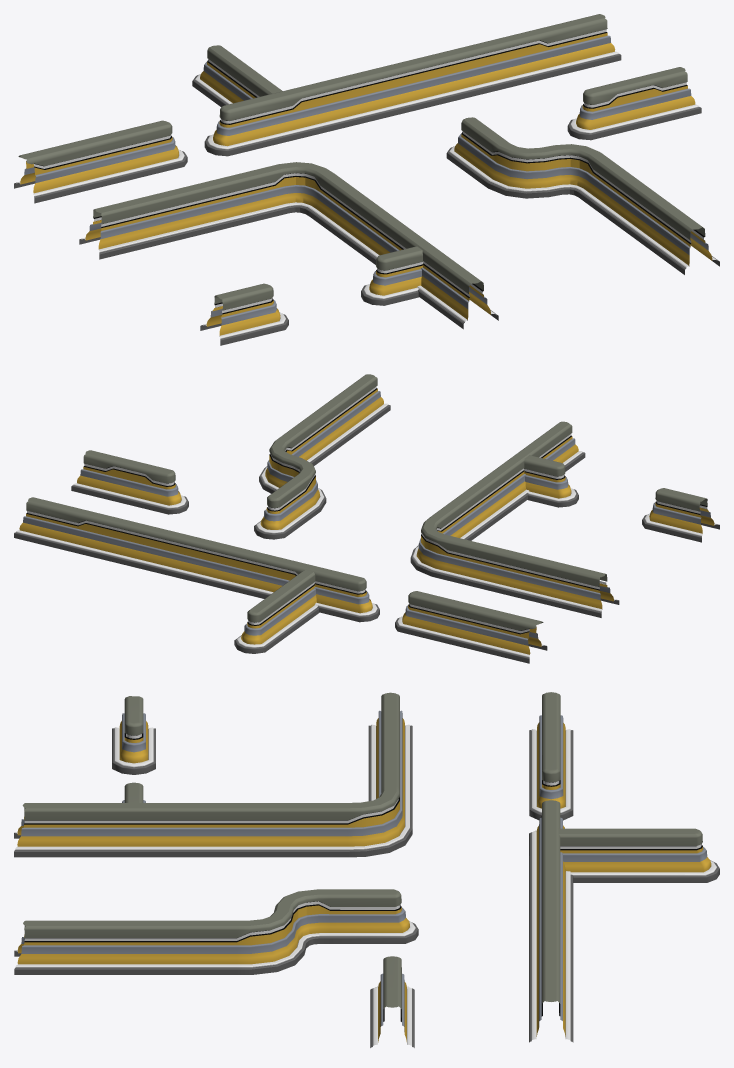
The model's file is Small walls.fbx.
3 views of the same model, one above another, from view 1: azimuth 30°, elevation 25°; view 2: azimuth 150°, elevation 25°; view 3: azimuth 270°, elevation 25° (orthographic). The views are drawn at different scales.
Visible parts, largest first — view 1: Small_wallv1_32, Small_wall_L53, Small_wall_L57, Small_wallv1_23, Small_wallv1_20, Small_wallv1_98, Small_wall_L108, Small_wallv1_99; view 2: Small_wall_L53, Small_wallv1_32, Small_wall_L57, Small_wallv1_23, Small_wallv1_20, Small_wall_L108, Small_wallv1_98, Small_wallv1_99; view 3: Small_wall_L53, Small_wall_L57, Small_wallv1_32, Small_wall_L108, Small_wallv1_23, Small_wallv1_98, Small_wallv1_20.
Part boxes in pixels (x1,y1,x2,y2): Small_wallv1_32: (204,14,621,156); Small_wall_L53: (79,162,498,329); Small_wall_L57: (446,117,719,274); Small_wallv1_23: (14,120,187,203); Small_wallv1_20: (567,67,701,140); Small_wallv1_98: (200,283,288,345); Small_wall_L108: (192,45,282,106); Small_wallv1_99: (361,246,423,305); Small_wall_L53: (410,421,619,617); Small_wallv1_32: (14,497,379,622); Small_wall_L57: (254,374,390,539); Small_wallv1_23: (395,591,547,663); Small_wallv1_20: (71,450,188,514); Small_wall_L108: (234,569,319,653); Small_wallv1_98: (642,488,719,542); Small_wallv1_99: (524,455,578,507); Small_wall_L53: (14,692,412,857); Small_wall_L57: (14,889,418,974); Small_wallv1_32: (529,800,573,1042); Small_wall_L108: (558,828,719,882); Small_wallv1_23: (529,692,573,820); Small_wallv1_98: (112,696,155,774); Small_wallv1_20: (370,956,414,1047).
Bounding box in the file's own units: 592 × 38.48 × 551.
